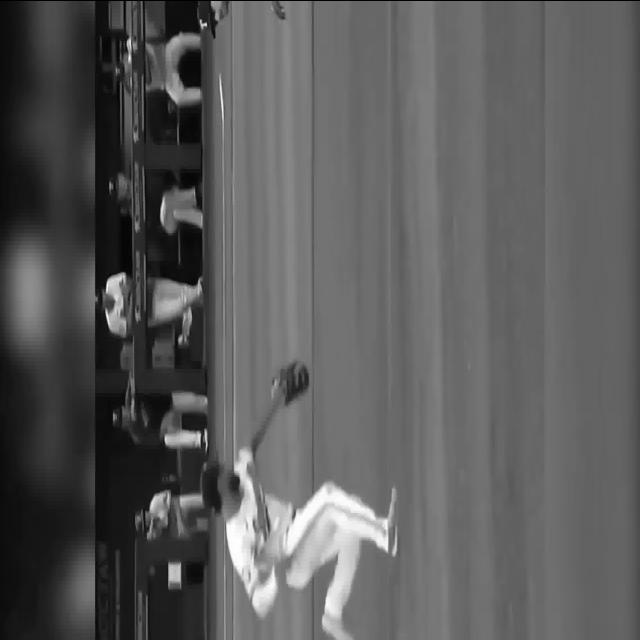baseball_glove: (275, 361, 309, 406)
shoe: (321, 611, 355, 640), (387, 486, 398, 556), (200, 427, 208, 453), (195, 181, 202, 208), (197, 276, 203, 306)
